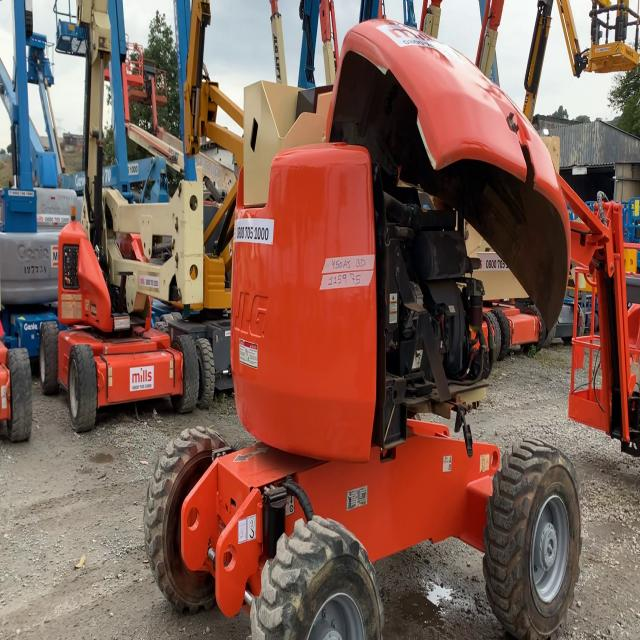Adesivos: (130, 365, 154, 392)
